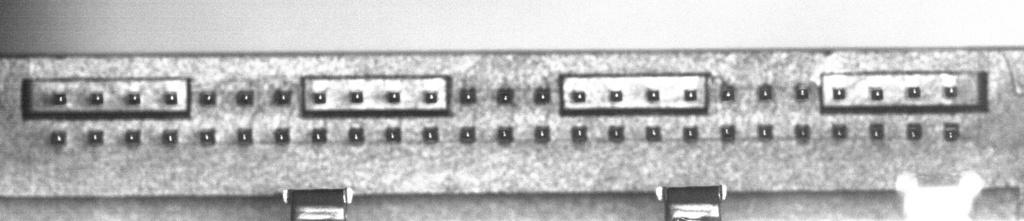pin_ok: (496, 86, 514, 104), (458, 86, 477, 103), (273, 88, 292, 105), (533, 86, 552, 103), (458, 126, 476, 143), (943, 123, 960, 141), (906, 123, 923, 140), (571, 125, 588, 142), (49, 129, 67, 145), (236, 89, 254, 105), (794, 124, 811, 140), (831, 123, 848, 139), (273, 127, 290, 143), (384, 126, 401, 142), (199, 128, 216, 144), (422, 126, 439, 142), (534, 125, 550, 142), (496, 126, 513, 142), (347, 126, 364, 142), (869, 123, 885, 140), (198, 90, 216, 105), (720, 124, 736, 140), (645, 125, 661, 141), (311, 127, 327, 143), (608, 125, 624, 141), (757, 84, 773, 100), (720, 85, 736, 101), (794, 85, 811, 100), (757, 124, 774, 139), (162, 129, 178, 144), (87, 129, 103, 144), (125, 129, 141, 144), (236, 128, 252, 143), (683, 126, 698, 141), (312, 90, 327, 104), (126, 91, 141, 105), (645, 88, 660, 102), (571, 89, 586, 103), (942, 85, 958, 98), (89, 91, 103, 105), (832, 86, 846, 100), (386, 90, 401, 103), (423, 90, 438, 103), (608, 89, 623, 102), (164, 91, 178, 104), (684, 88, 698, 101), (349, 90, 363, 103), (870, 87, 884, 100), (907, 86, 921, 98), (54, 92, 67, 104)
